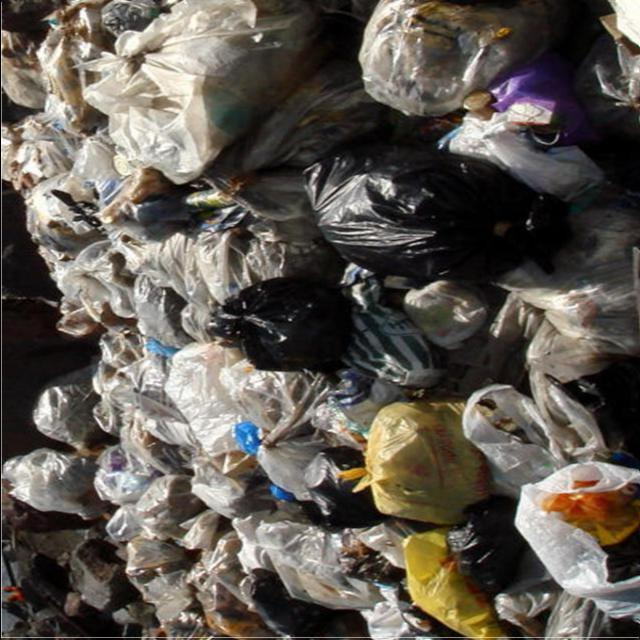Trashbag: (298, 131, 568, 291), (203, 274, 368, 378), (442, 492, 534, 595), (242, 562, 362, 638), (304, 444, 378, 532)
